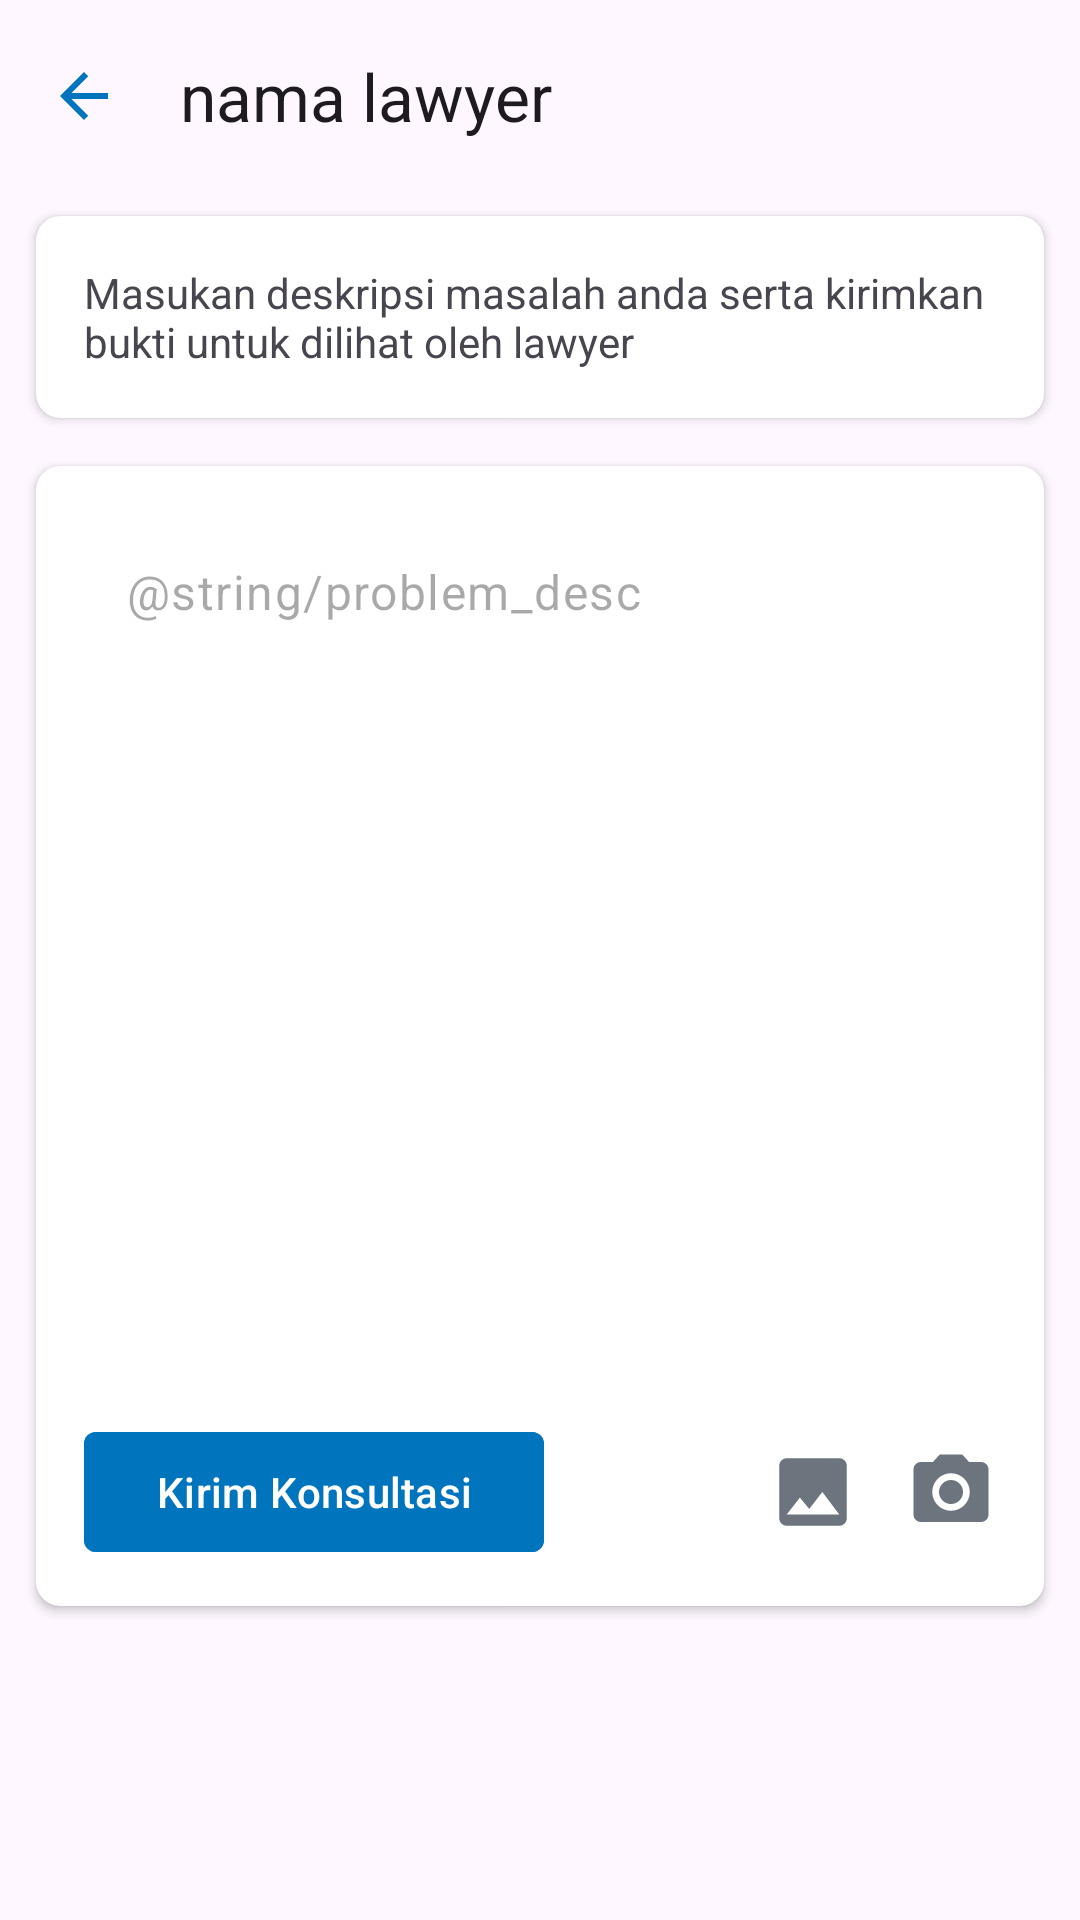

Icons on this 1080w x 1920h Android screen, each with its box as Rect(x1, y1, x2, y2):
camera: Rect(913, 1454, 989, 1522)
